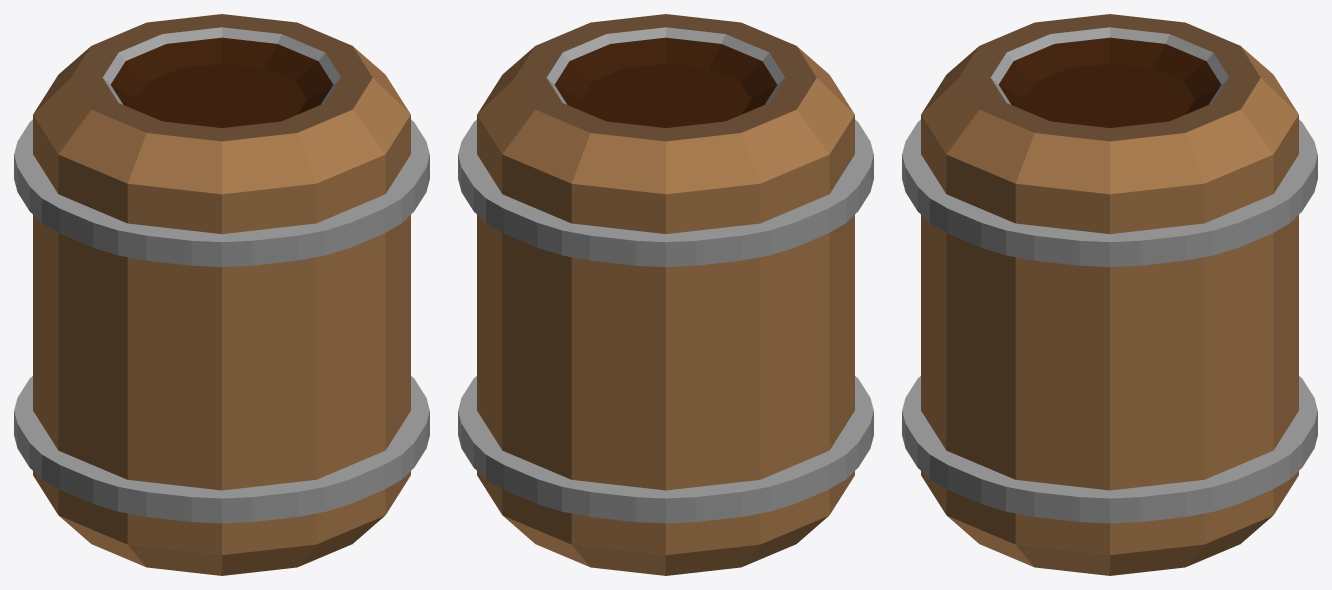
Rendered from Barrel.fbx.
3 renders of one model, left to right at view 1: azimuth 30°, elevation 25°; view 2: azimuth 150°, elevation 25°; view 3: azimuth 270°, elevation 25°, orthographic.
Parts seen in each view (by area): view 1: barrel.009, barrel.011, barrel.008, barrel.012, Barreliron, Barreliron.001, barrel.010, barrel.007, barrel.013, barrel.003, barrel.004, barrel.001 (+3 smaller); view 2: barrel.005, barrel.006, barrel.004, barrel.007, Barreliron, Barreliron.001, barrel.003, barrel.008, barrel.013, barrel.010, barrel.012, barrel.002 (+3 smaller); view 3: barrel.001, barrel.002, barrel.010, barrel.003, Barreliron, Barreliron.001, barrel.004, barrel.012, barrel.013, barrel.007, barrel.008, barrel.005 (+3 smaller).
Boxes of the visible parts, left/top/right/bottom form: barrel.009: left=127, top=121, right=221, bottom=575; barrel.011: left=222, top=121, right=316, bottom=575; barrel.008: left=58, top=103, right=161, bottom=566; barrel.012: left=282, top=103, right=385, bottom=566; Barreliron: left=14, top=376, right=429, bottom=523; Barreliron.001: left=14, top=119, right=429, bottom=266; barrel.010: left=298, top=77, right=410, bottom=514; barrel.007: left=33, top=77, right=145, bottom=514; barrel.013: left=137, top=63, right=306, bottom=127; barrel.003: left=222, top=14, right=296, bottom=68; barrel.004: left=147, top=14, right=221, bottom=68; barrel.001: left=296, top=46, right=410, bottom=113; barrel.005: left=571, top=121, right=665, bottom=575; barrel.006: left=666, top=121, right=760, bottom=575; barrel.004: left=502, top=103, right=605, bottom=566; barrel.007: left=726, top=103, right=829, bottom=566; Barreliron: left=458, top=376, right=873, bottom=523; Barreliron.001: left=458, top=119, right=873, bottom=266; barrel.003: left=477, top=77, right=589, bottom=514; barrel.008: left=742, top=77, right=854, bottom=514; barrel.013: left=581, top=63, right=750, bottom=127; barrel.010: left=591, top=14, right=665, bottom=68; barrel.012: left=666, top=14, right=740, bottom=68; barrel.002: left=477, top=46, right=591, bottom=113; barrel.001: left=1015, top=121, right=1109, bottom=575; barrel.002: left=1110, top=121, right=1204, bottom=575; barrel.010: left=946, top=103, right=1049, bottom=566; barrel.003: left=1170, top=103, right=1273, bottom=566; Barreliron: left=902, top=376, right=1317, bottom=523; Barreliron.001: left=902, top=119, right=1317, bottom=266; barrel.004: left=1186, top=77, right=1298, bottom=514; barrel.012: left=921, top=77, right=1033, bottom=514; barrel.013: left=1025, top=63, right=1194, bottom=127; barrel.007: left=1110, top=14, right=1184, bottom=68; barrel.008: left=1035, top=14, right=1109, bottom=68; barrel.005: left=1184, top=46, right=1298, bottom=113.
Bounding box in the file's own units: 1.43 × 1.64 × 1.43.
